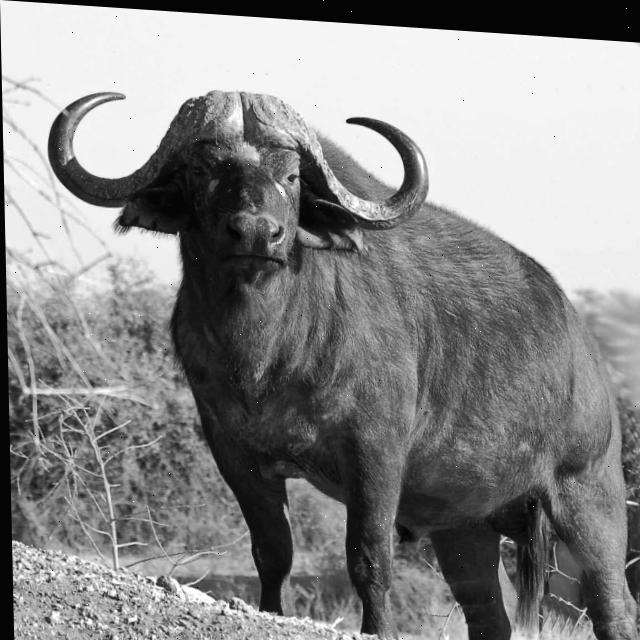Buffalo: (46, 78, 640, 640)
